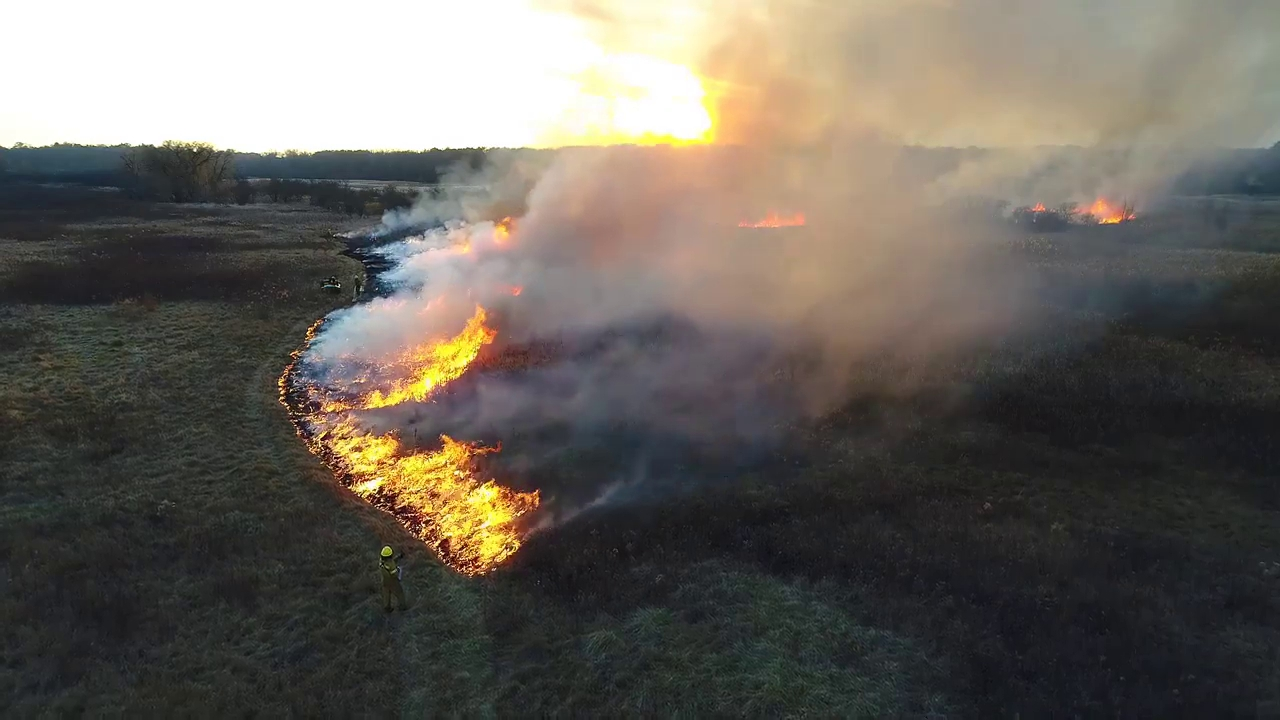forest_fire: (278, 305, 539, 574), (1062, 199, 1135, 224), (494, 217, 514, 244)
